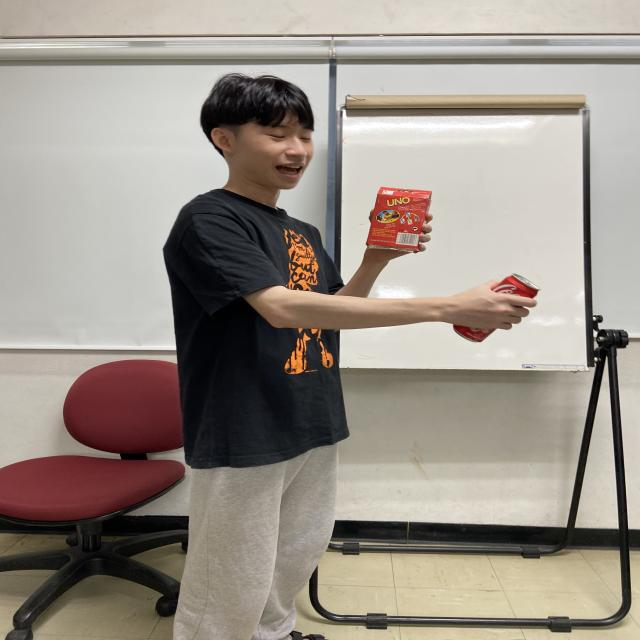can: (451, 273, 542, 344)
